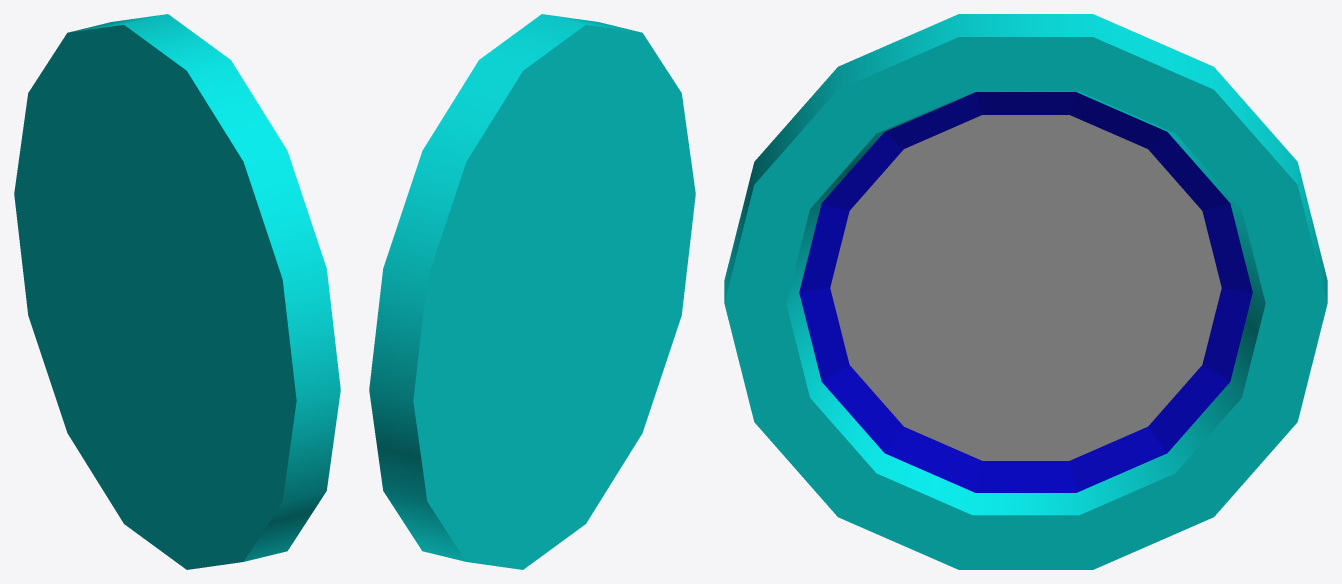
The model's file is Small speaker.fbx.
3 renders of one model, left to right at view 1: azimuth 30°, elevation 25°; view 2: azimuth 150°, elevation 25°; view 3: azimuth 270°, elevation 25°, orthographic. The views are drawn at different scales.
Visible parts, largest first — view 1: pCylinder145; view 2: pCylinder145; view 3: pCylinder145.
Boxes of the visible parts, x1,y1,x2,y2 form: pCylinder145: [14, 14, 340, 569]; pCylinder145: [369, 14, 695, 569]; pCylinder145: [724, 14, 1327, 569].
Bounding box in the file's own units: 1.38 × 14.97 × 15.35.
